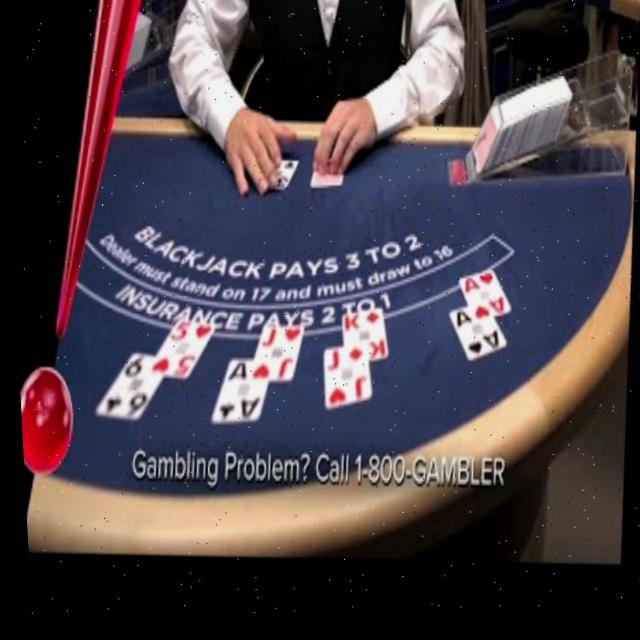Card-3: (272, 164, 296, 193)
Card-5: (143, 320, 211, 381)
Card-6: (90, 355, 158, 422)
Card-A: (206, 359, 264, 424), (445, 313, 502, 367), (456, 275, 506, 328)
Card-J: (319, 350, 367, 414), (247, 329, 300, 383)
Card-K: (338, 312, 384, 368)
